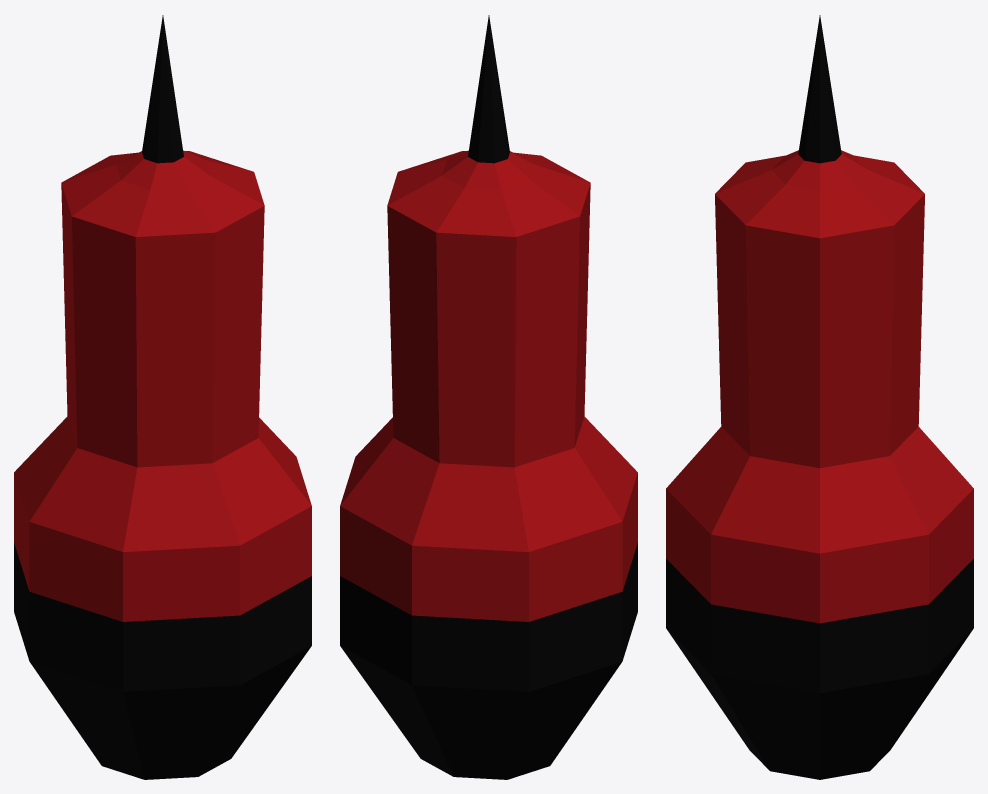
The model's file is beacon.fbx.
3 views of the same model, side by side, from view 1: azimuth 30°, elevation 25°; view 2: azimuth 150°, elevation 25°; view 3: azimuth 270°, elevation 25° (orthographic).
Visible parts, largest first — view 1: Cube; view 2: Cube; view 3: Cube.
Part boxes in pixels (left/top/right/bottom): Cube: left=14, top=15, right=311, bottom=779; Cube: left=340, top=15, right=637, bottom=779; Cube: left=666, top=15, right=973, bottom=779.
Bounding box in the file's own units: 437 × 1152 × 437.
